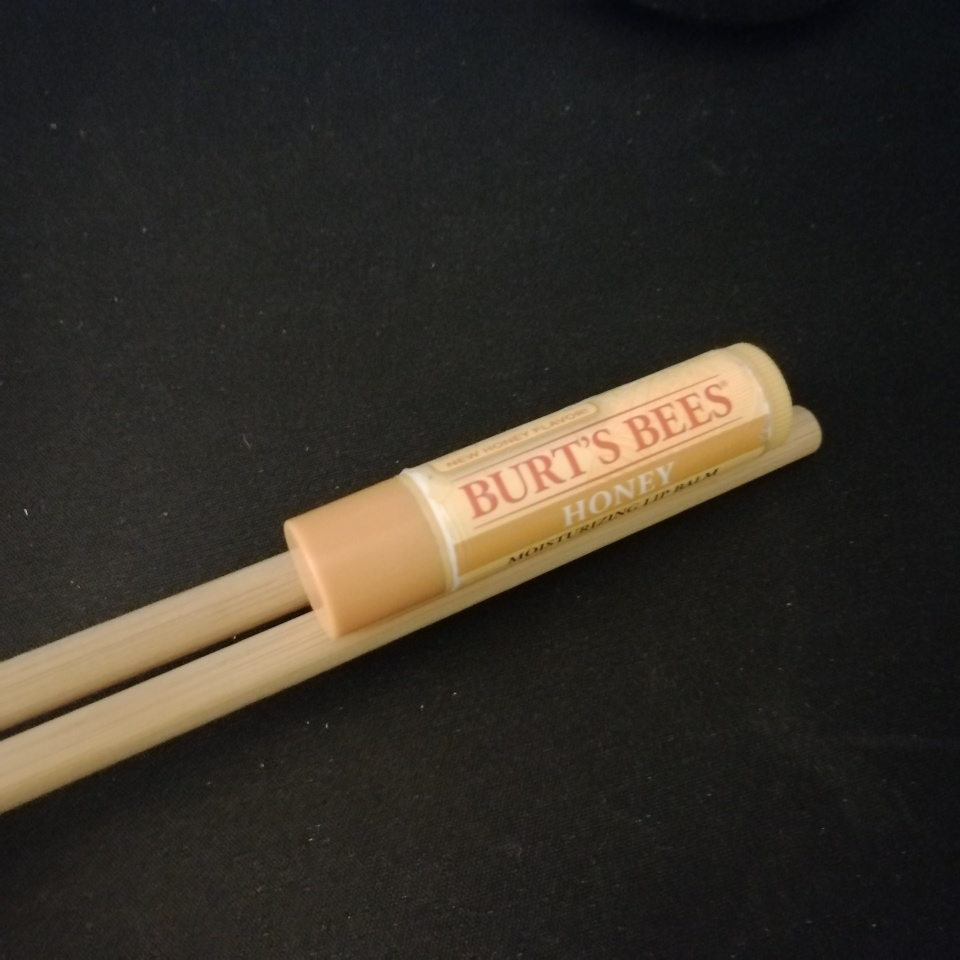chapstick: (283, 340, 794, 638)
